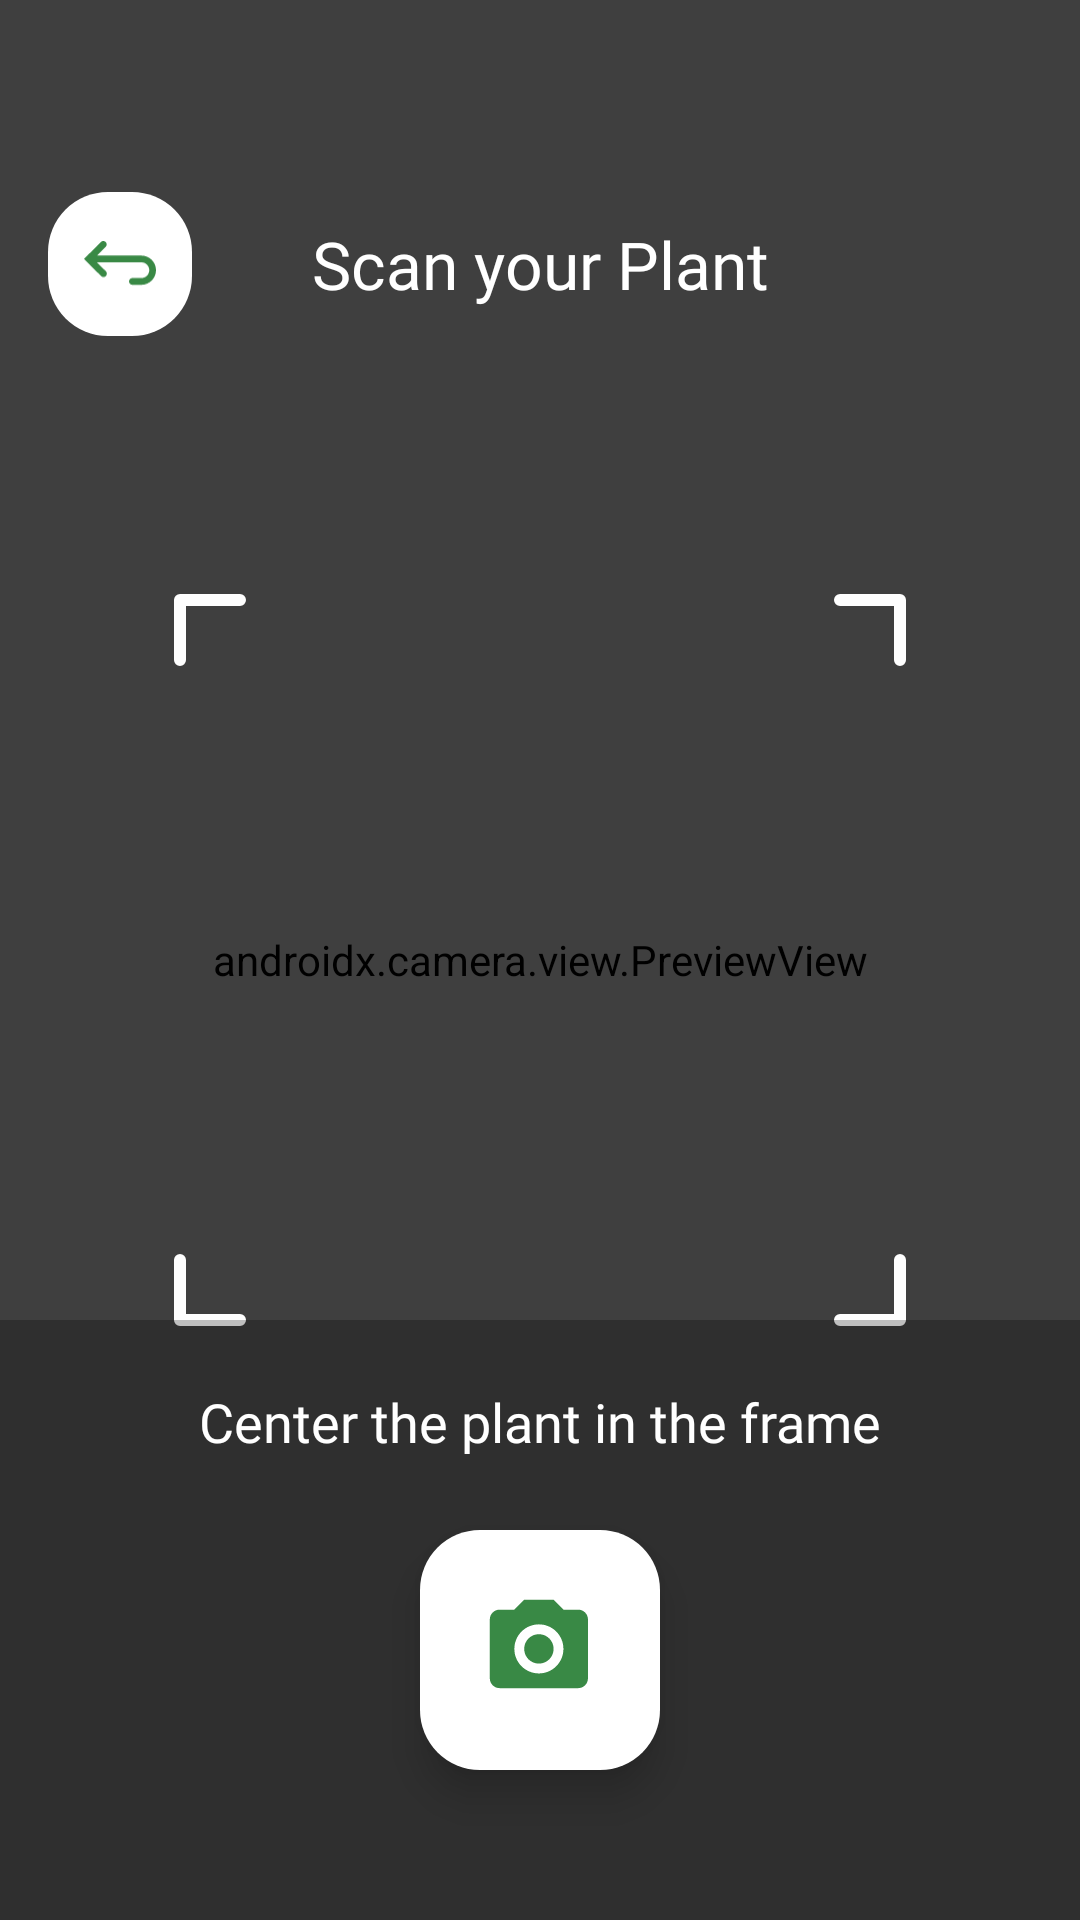

Named icons in this screenshot (1080 x 1920) and their centers, point (x, y):
back: point (120, 264)
